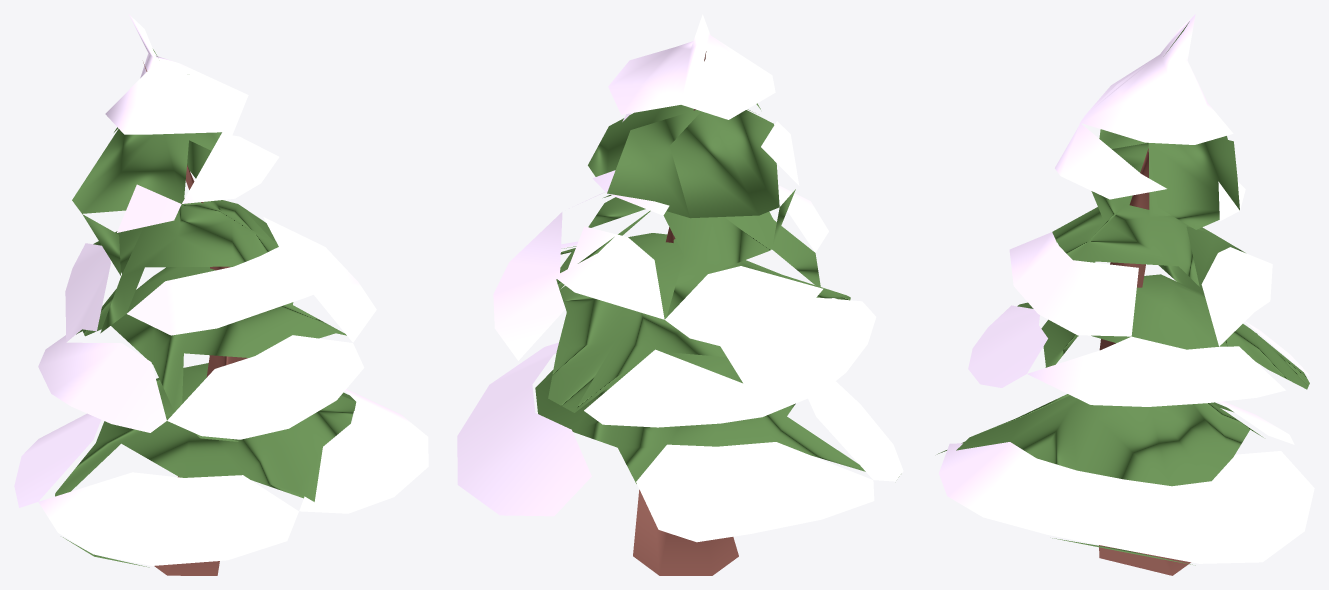
The model's file is PineTree_Snow_1_lod.glb.
3 renders of one model, left to right at view 1: azimuth 30°, elevation 25°; view 2: azimuth 150°, elevation 25°; view 3: azimuth 270°, elevation 25°, orthographic. The views are drawn at different scales.
Parts seen in each view (by area): view 1: PineTree_Snow_1; view 2: PineTree_Snow_1; view 3: PineTree_Snow_1.
Boxes of the visible parts, x1=… form: PineTree_Snow_1: x1=14, y1=14, x2=428, y2=575; PineTree_Snow_1: x1=457, y1=14, x2=903, y2=575; PineTree_Snow_1: x1=937, y1=14, x2=1314, y2=575.
Bounding box in the file's own units: 196 × 270 × 178.
